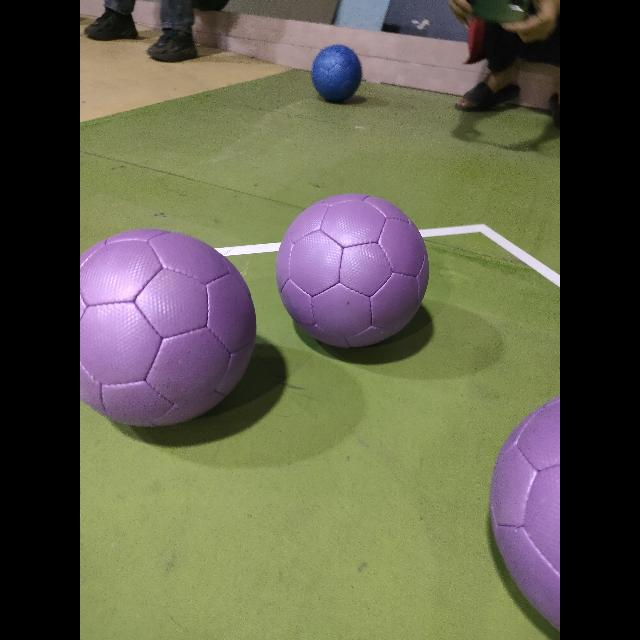B: (313, 41, 365, 101)
P: (80, 230, 256, 426), (276, 194, 428, 346), (490, 396, 560, 630)
